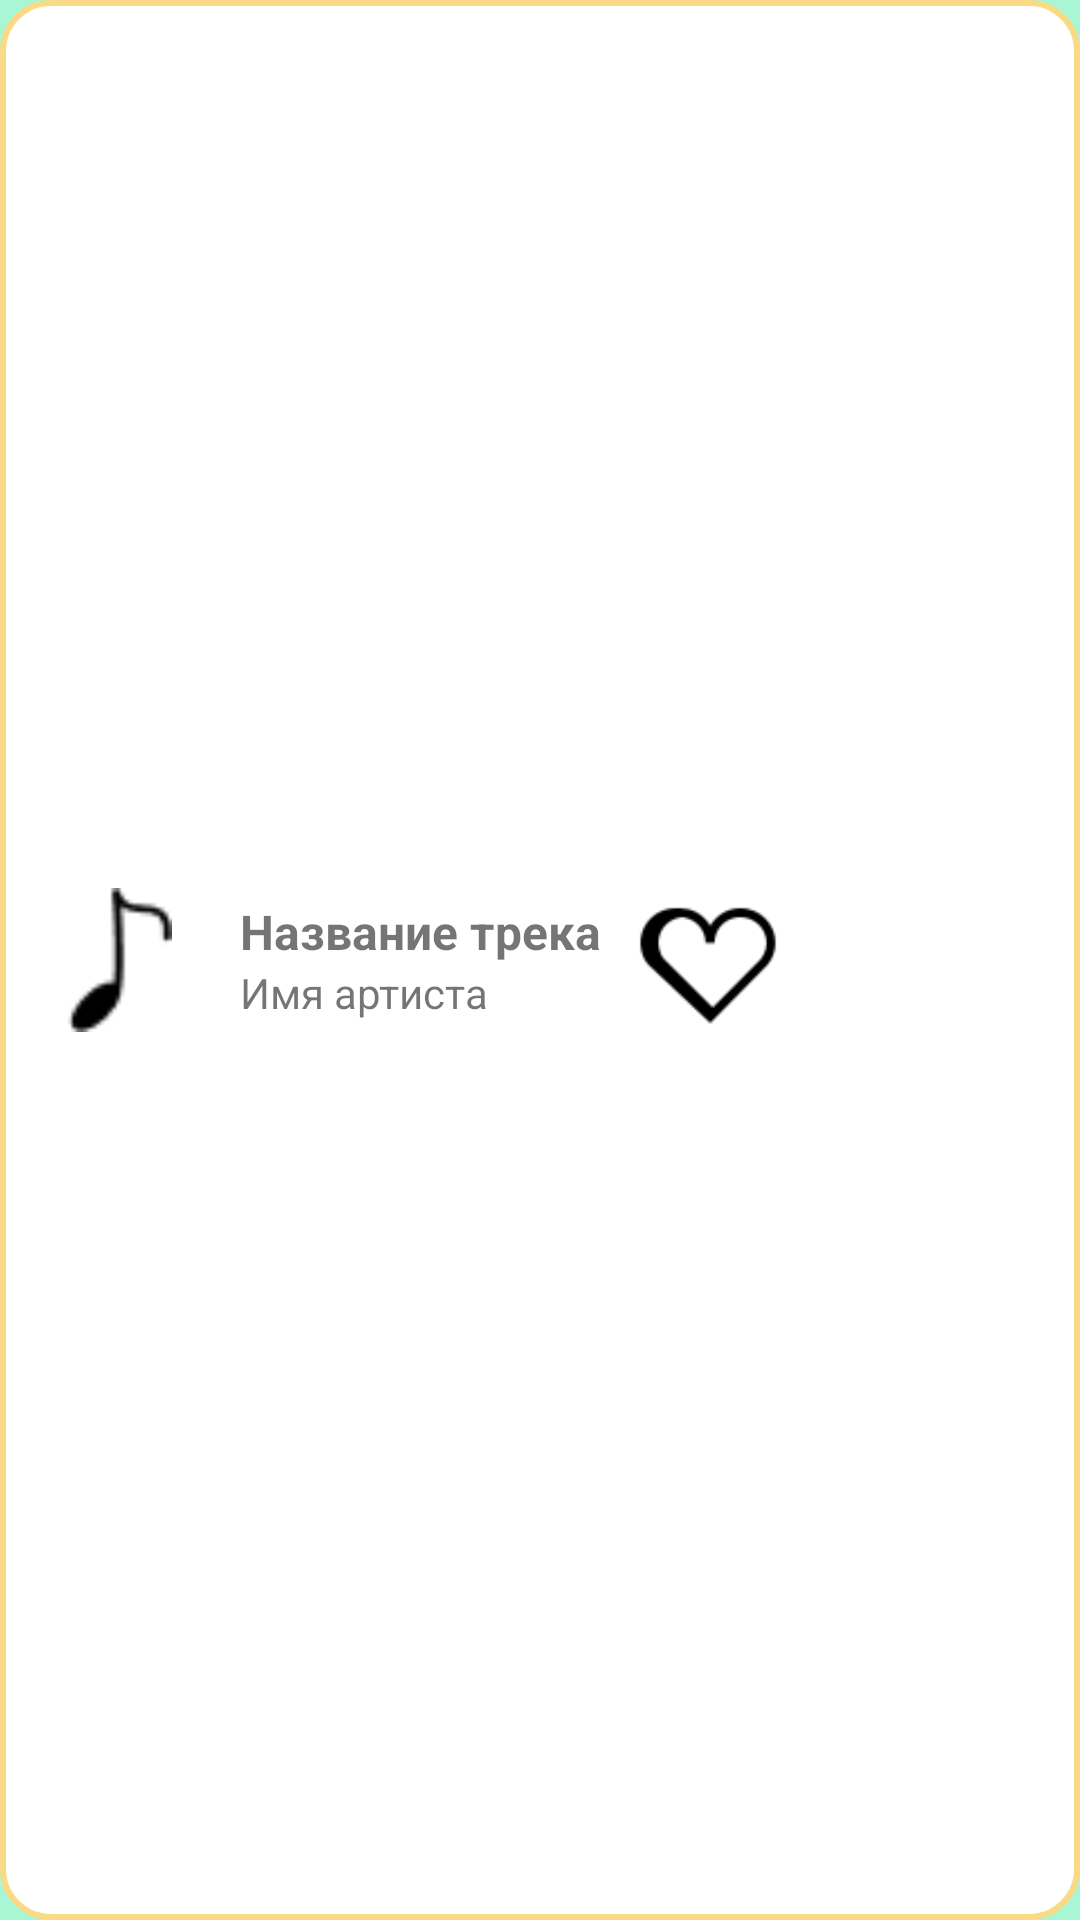

Locate icon controls on the screen. Image size 1080px×1920px, boxes as (x1, y1, x2, y2).
mini favorite: (640, 907, 776, 1024)
